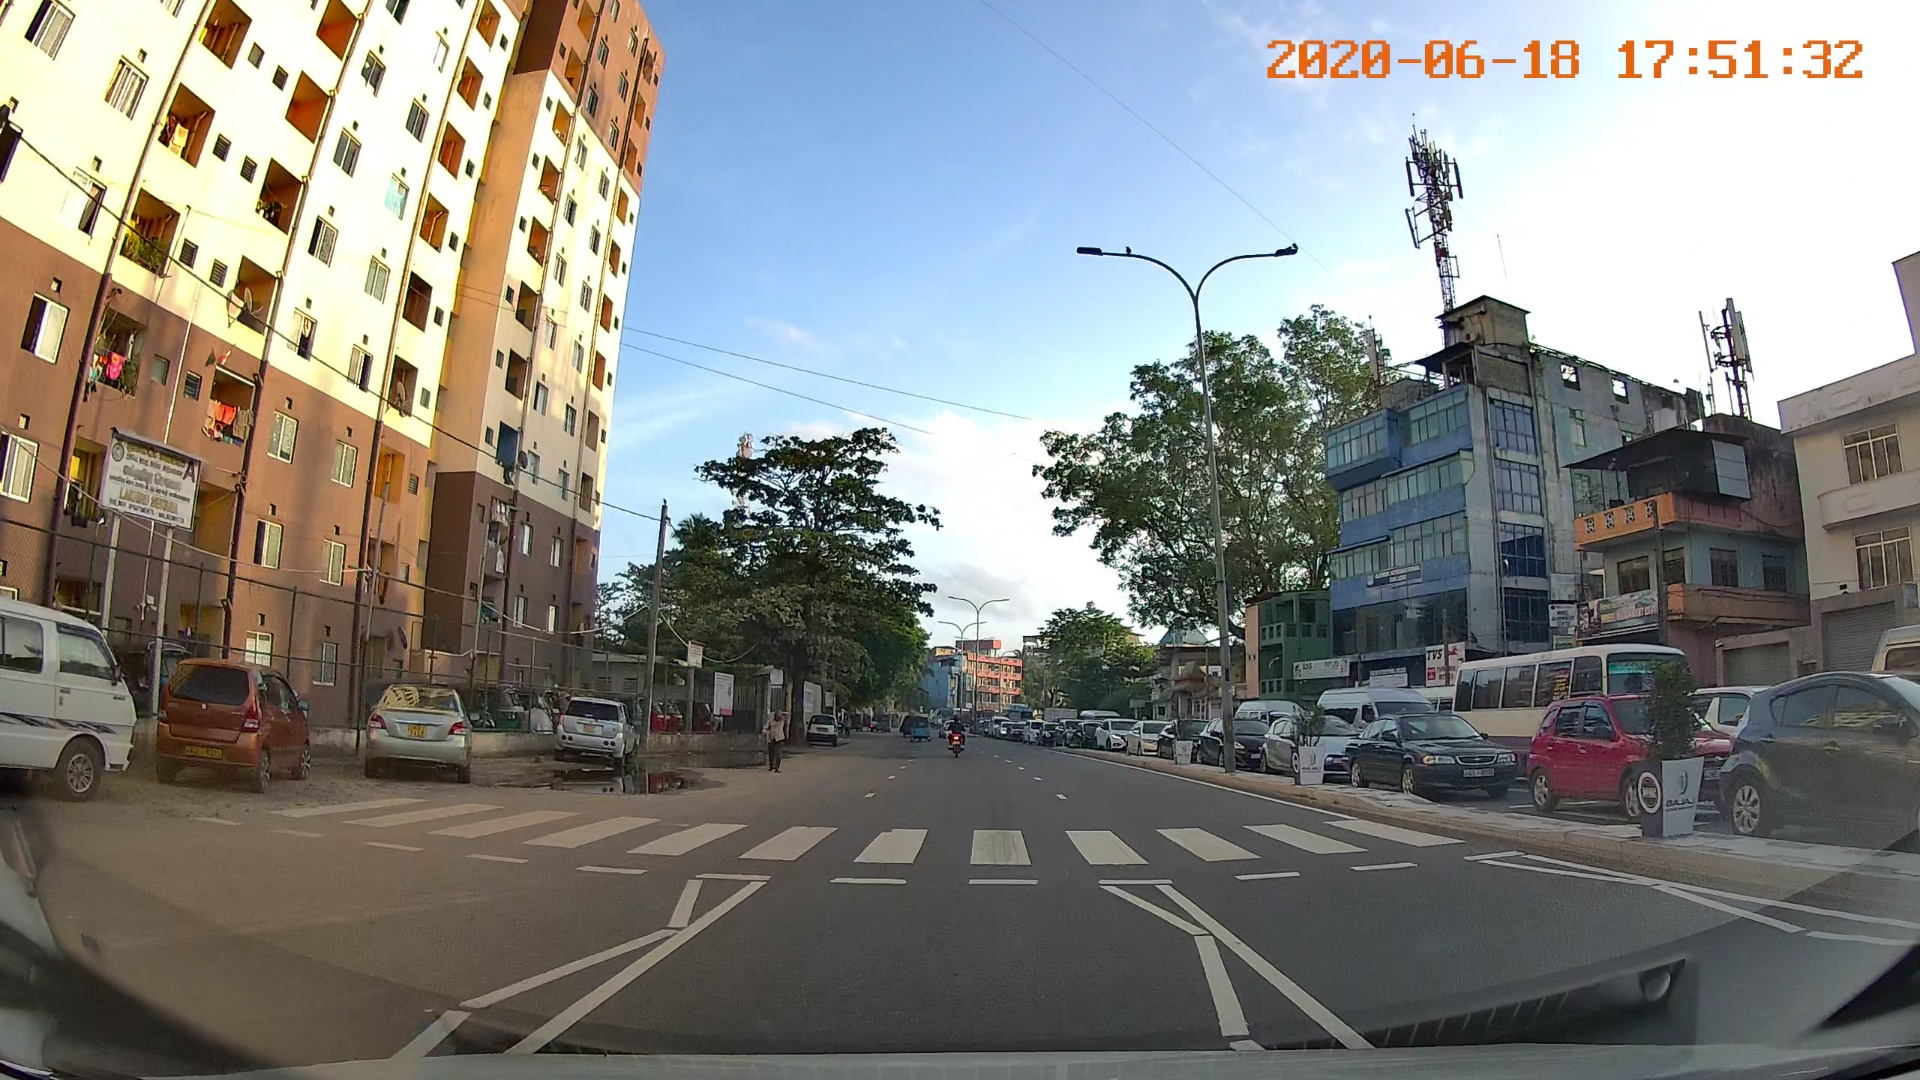crossing: (281, 770, 1466, 909)
